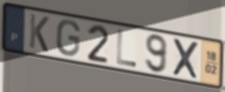2: (86, 24, 110, 66)
9: (144, 33, 169, 76)
G: (55, 19, 82, 58)
K: (28, 12, 51, 55)
L: (116, 28, 138, 69)
X: (171, 36, 200, 82)
